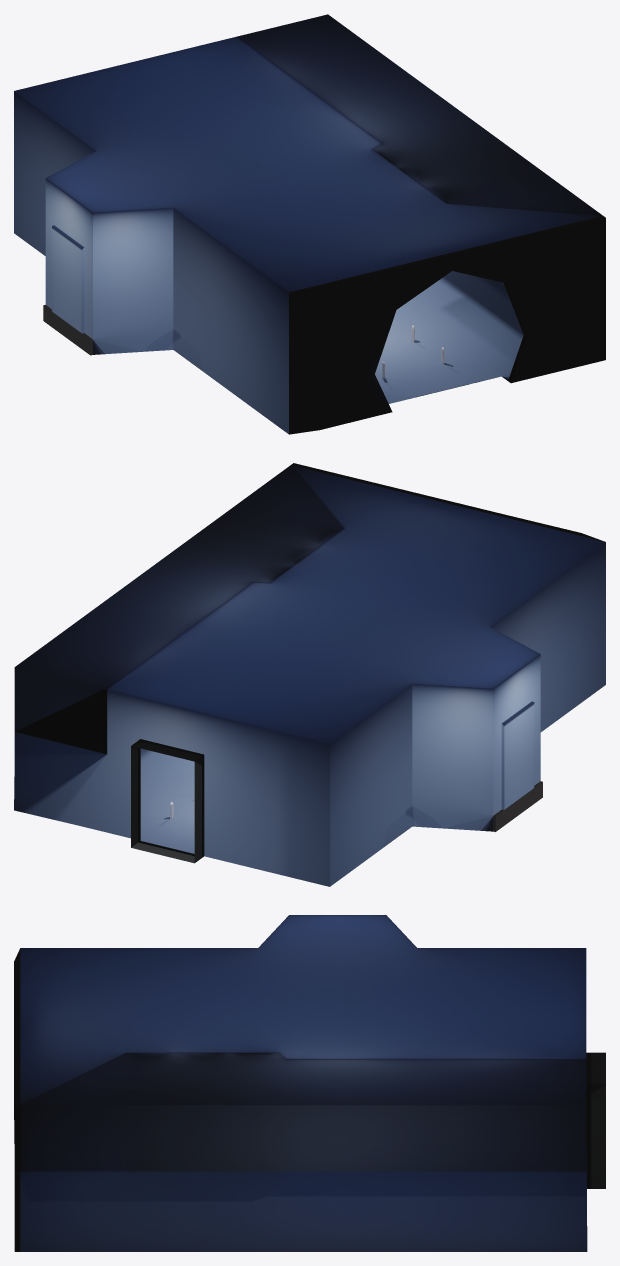
Rendered from start.glb.
The picture shows the model from 3 angles, top to bottom: view 1: azimuth 30°, elevation 25°; view 2: azimuth 150°, elevation 25°; view 3: azimuth 270°, elevation 25°; orthographic projection. The views are drawn at different scales.
Visible parts, largest first — view 1: Start Platform.001; view 2: Start Platform.001; view 3: Start Platform.001.
Part boxes in pixels (x1=…): Start Platform.001: x1=14, y1=14, x2=605, y2=434; Start Platform.001: x1=14, y1=463, x2=605, y2=886; Start Platform.001: x1=14, y1=915, x2=605, y2=1251.
Bounding box in the file's own units: 14.75 × 5.34 × 19.24.
2 materials, 2 textured.
